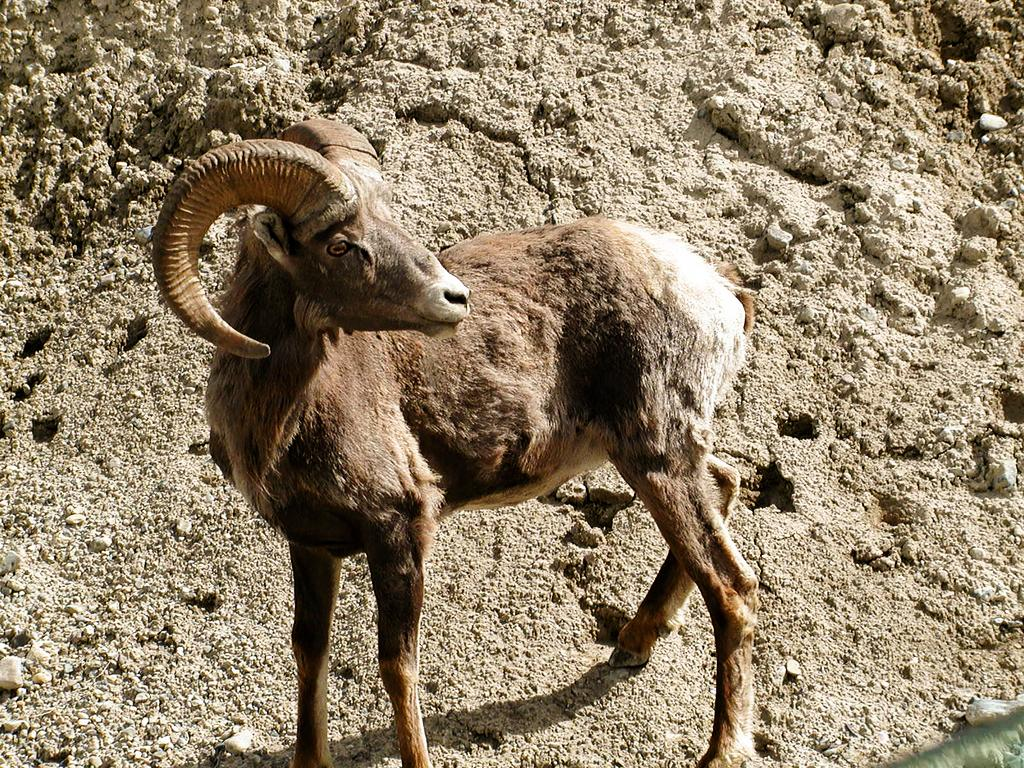Sheep: (150, 120, 760, 768)
